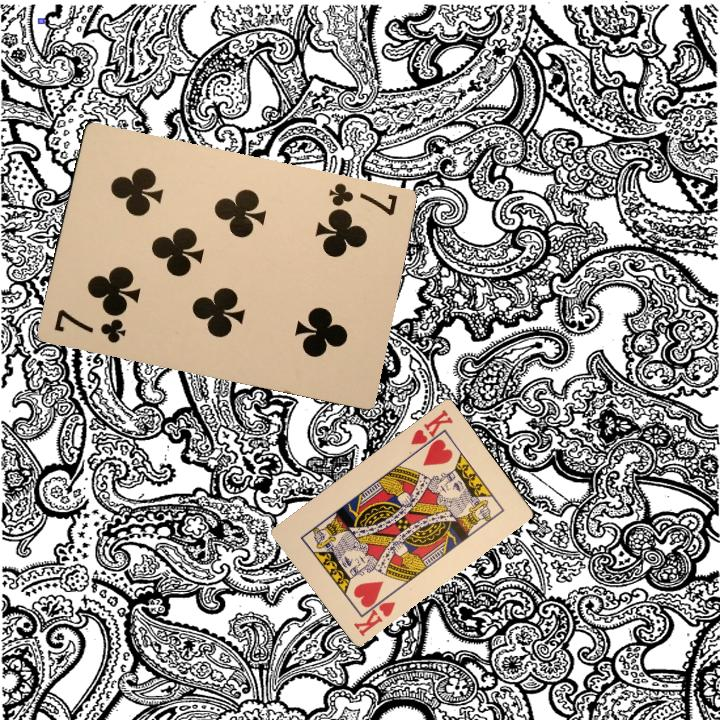7c: (50, 305, 129, 346), (324, 179, 400, 220)
Kh: (406, 406, 456, 455), (349, 590, 398, 639)
